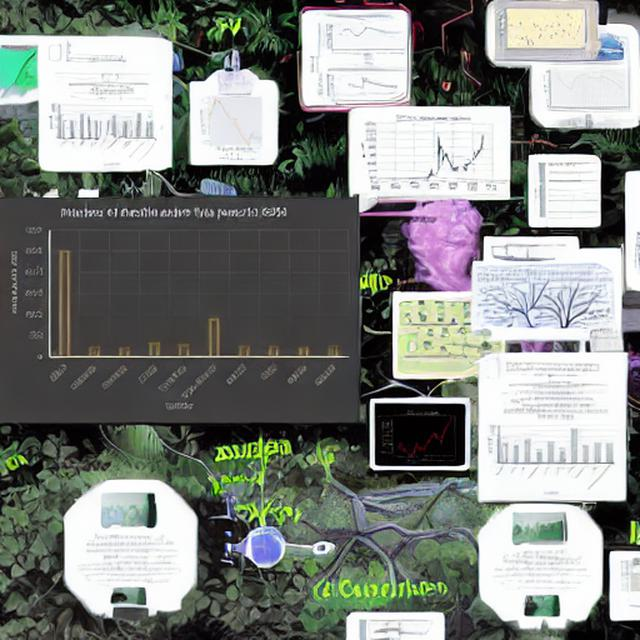Graph: (2, 198, 357, 422), (481, 407, 618, 496), (359, 108, 500, 193), (494, 1, 588, 59), (192, 89, 275, 151), (382, 405, 463, 466), (539, 63, 628, 117), (316, 13, 404, 64)
